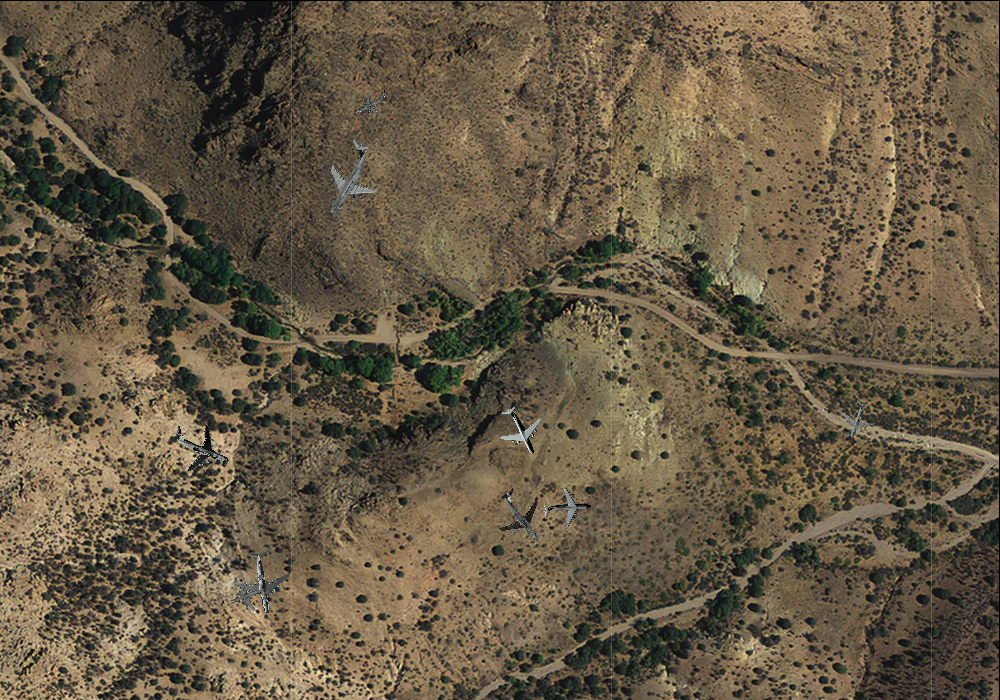plane: (298, 127, 397, 229), (482, 476, 561, 556), (162, 409, 240, 485), (228, 547, 295, 617), (487, 397, 554, 465), (542, 484, 592, 532), (834, 395, 881, 444), (223, 572, 270, 618), (348, 80, 395, 125)
